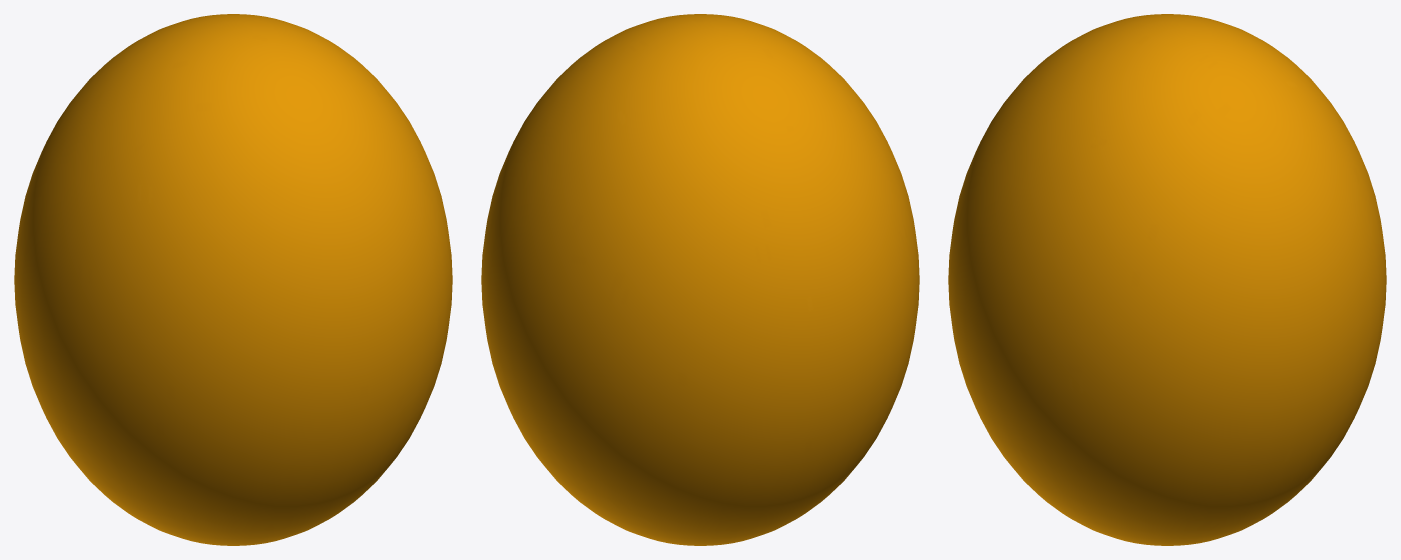
The picture shows the model from 3 angles, left to right: view 1: azimuth 30°, elevation 25°; view 2: azimuth 150°, elevation 25°; view 3: azimuth 270°, elevation 25°; orthographic projection.
Visible parts, largest first — view 1: fruit; view 2: fruit; view 3: fruit.
Part boxes in pixels (x1,y1,x2,y2): fruit: (14,14,452,545); fruit: (481,14,919,545); fruit: (948,14,1386,545).
Bounding box in the file's own units: 0.0773 × 0.0971 × 0.0773.
Materials: 2 (1 with a texture image).
